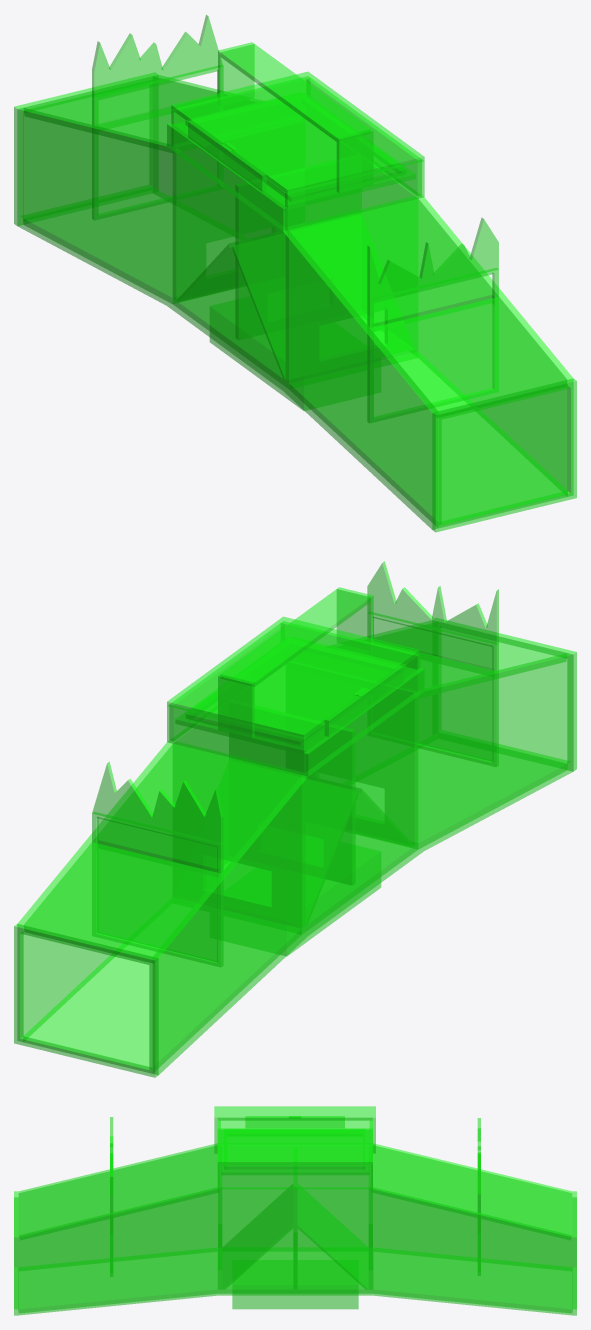
Rendered from kaitlyn.glb.
3 renders of one model, top to bottom at view 1: azimuth 30°, elevation 25°; view 2: azimuth 150°, elevation 25°; view 3: azimuth 270°, elevation 25°, orthographic. The views are drawn at different scales.
Parts seen in each view (by area): view 1: Layer_01; view 2: Layer_01; view 3: Layer_01.
Boxes of the visible parts, x1,y1,x2,y2 form: Layer_01: (14,15,576,532); Layer_01: (14,561,576,1077); Layer_01: (14,1106,576,1315).
Bounding box in the file's own units: 164 × 307 × 848.
